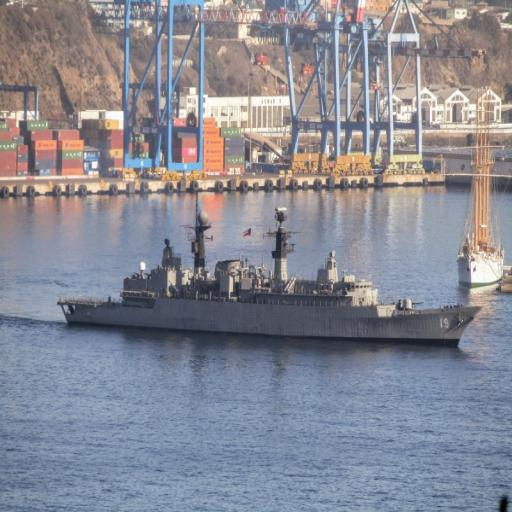Fragata: (53, 199, 484, 350)
